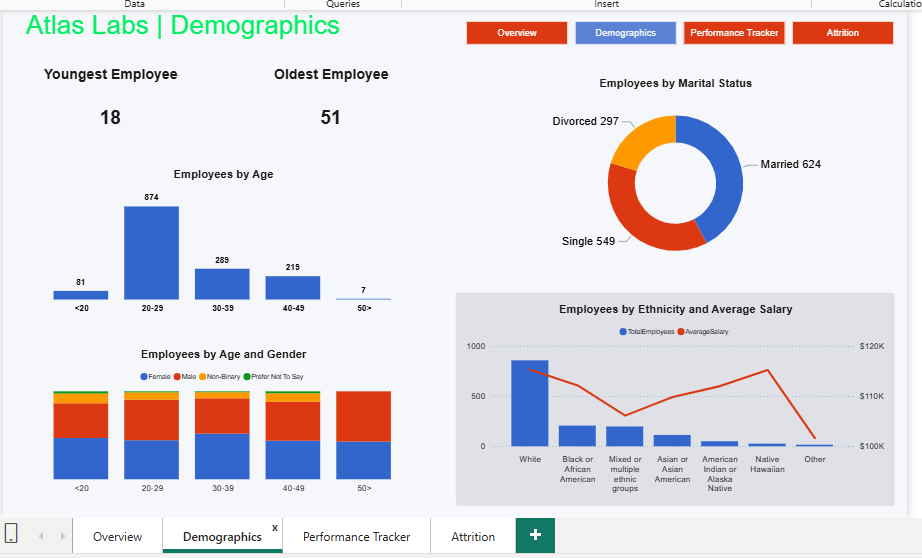

The page's visual inventory and layout, read from the dashboard file:
{"tool":"powerbi","page":{"name":"Demographics","canvas":[1280,720],"ordinal":1},"visuals":[{"type":"card","title":"Youngest Employee","fields":{"Values":["Sum(DimEmployee.Age)"]},"box":[16,80,272,112],"z":0},{"type":"card","title":"Oldest Employee","fields":{"Values":["Sum(DimEmployee.Age)"]},"box":[320,80,288,112],"z":1000},{"type":"columnChart","title":"Employees by Age","fields":{"Category":["DimEmployee.AgeBins"],"Y":["_Measures.TotalEmployees"]},"box":[16,208,592,240],"z":2000},{"type":"hundredPercentStackedColumnChart","title":"Employees by Age and Gender","fields":{"Category":["DimEmployee.AgeBins"],"Series":["DimEmployee.Gender"],"Y":["_Measures.TotalEmployees"]},"box":[16,464,592,240],"z":3000},{"type":"donutChart","title":"Employees by Marital Status","fields":{"Category":["DimEmployee.MaritalStatus"],"Y":["_Measures.TotalEmployees"]},"box":[640,80,624,304],"z":4000},{"type":"lineStackedColumnComboChart","title":"Employees by Ethnicity and Average Salary","fields":{"Category":["DimEmployee.Ethnicity"],"Y":["_Measures.TotalEmployees"],"Y2":["_Measures.AverageSalary"]},"box":[640,400,624,304],"z":5000},{"type":"shape","box":[0,0,1280,64],"z":6000},{"type":"textbox","box":[32,0,624,64],"z":7000},{"type":"pageNavigator","box":[640,0,640,64],"z":8000}]}

Visuals, with their boxes on the page's 1280x720 design canvas (x1, y1, x2, y2). These are canvas units, not pixel positions in the 922x558 screenshot, which may show the page scaled, cropped or inside an application window:
"Youngest Employee" card: 16/80/288/192
"Oldest Employee" card: 320/80/608/192
"Employees by Age" columnChart: 16/208/608/448
"Employees by Age and Gender" hundredPercentStackedColumnChart: 16/464/608/704
"Employees by Marital Status" donutChart: 640/80/1264/384
"Employees by Ethnicity and Average Salary" lineStackedColumnComboChart: 640/400/1264/704
shape: 0/0/1280/64
textbox: 32/0/656/64
pageNavigator: 640/0/1280/64
